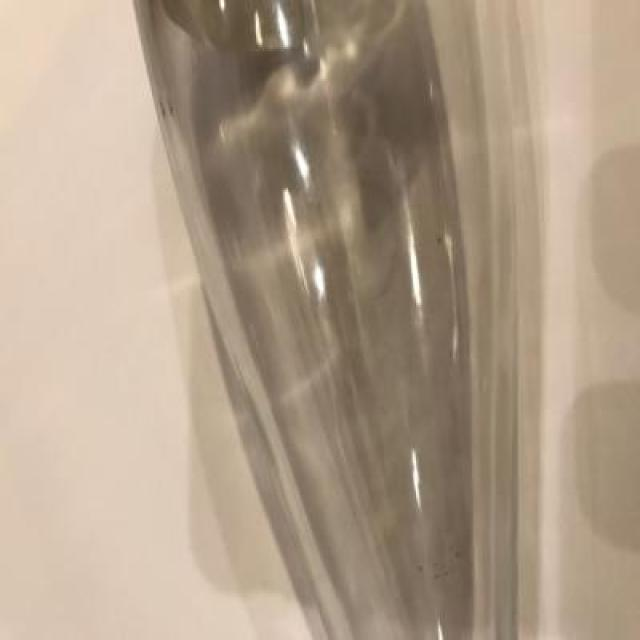glass: (122, 0, 485, 640)
